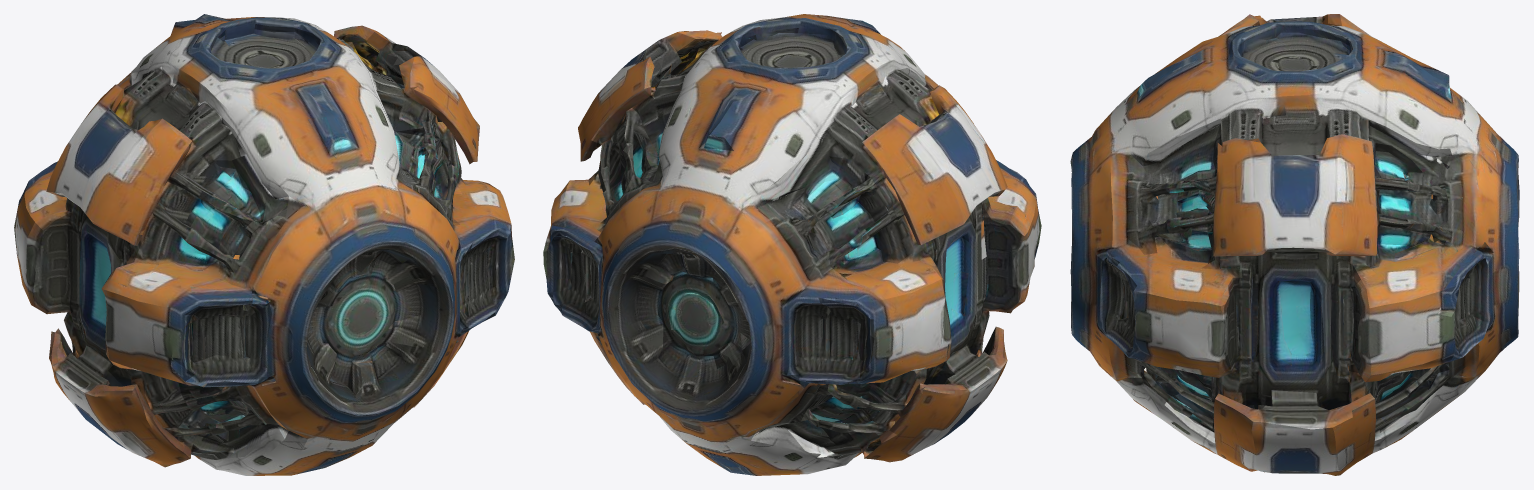
File: orbin.glb
3 views of the same model, side by side, from view 1: azimuth 30°, elevation 25°; view 2: azimuth 150°, elevation 25°; view 3: azimuth 270°, elevation 25° (orthographic). The views are drawn at different scales.
Visible parts, largest first — view 1: Mesh0; view 2: Mesh0; view 3: Mesh0.
Part boxes in pixels (left/top/right/bottom): Mesh0: left=14, top=14, right=514, bottom=475; Mesh0: left=543, top=14, right=1041, bottom=475; Mesh0: left=1070, top=14, right=1519, bottom=475.
Bounding box in the file's own units: 1.91 × 1.86 × 1.91.
1 material, 1 textured.
